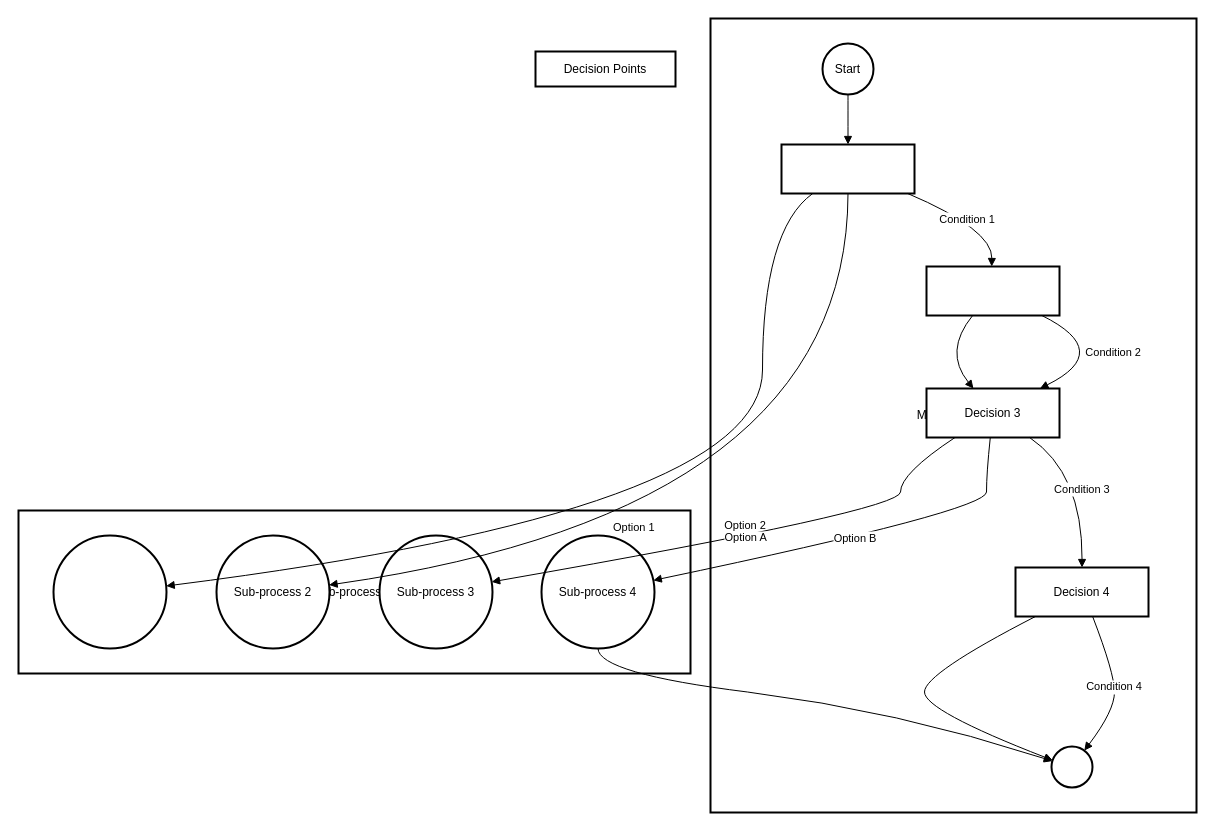
This 1214x830 diagram has some shape labels left out. Each missing label, with the centre of its shape:
Decision 1: point 847,168
Decision 2: point 992,290
End: point 1071,766
Sub-process 1: point 109,591
